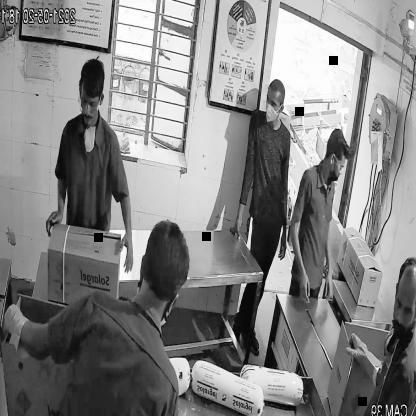goggles: (78, 90, 106, 115)
no_goggles: (265, 93, 286, 111)
